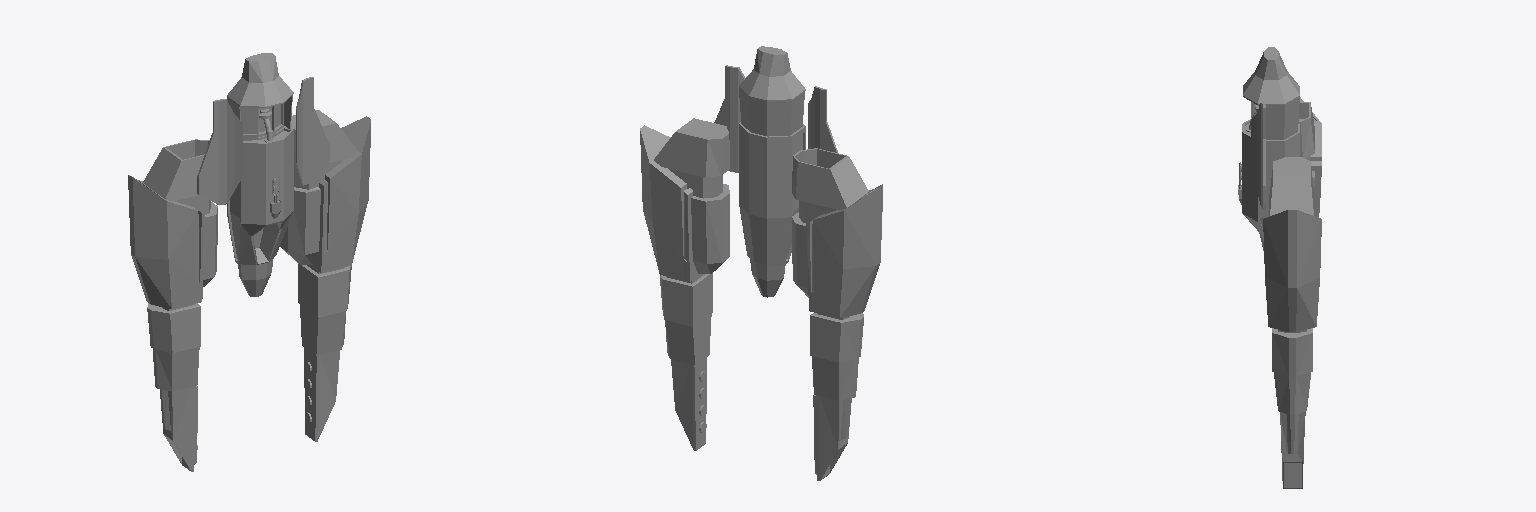
The model's file is spaceship3.obj.
The picture shows the model from 3 angles: view 1: azimuth 30°, elevation 25°; view 2: azimuth 150°, elevation 25°; view 3: azimuth 270°, elevation 25°; orthographic projection.
Parts seen in each view (by area): view 1: polySurface2; view 2: polySurface2; view 3: polySurface2.
Part boxes in pixels (left/top/right/bottom): polySurface2: left=128, top=53, right=370, bottom=471; polySurface2: left=640, top=46, right=882, bottom=480; polySurface2: left=1238, top=47, right=1321, bottom=488.
Size of the model in its own units: 25.55 by 41.3 by 7.78.